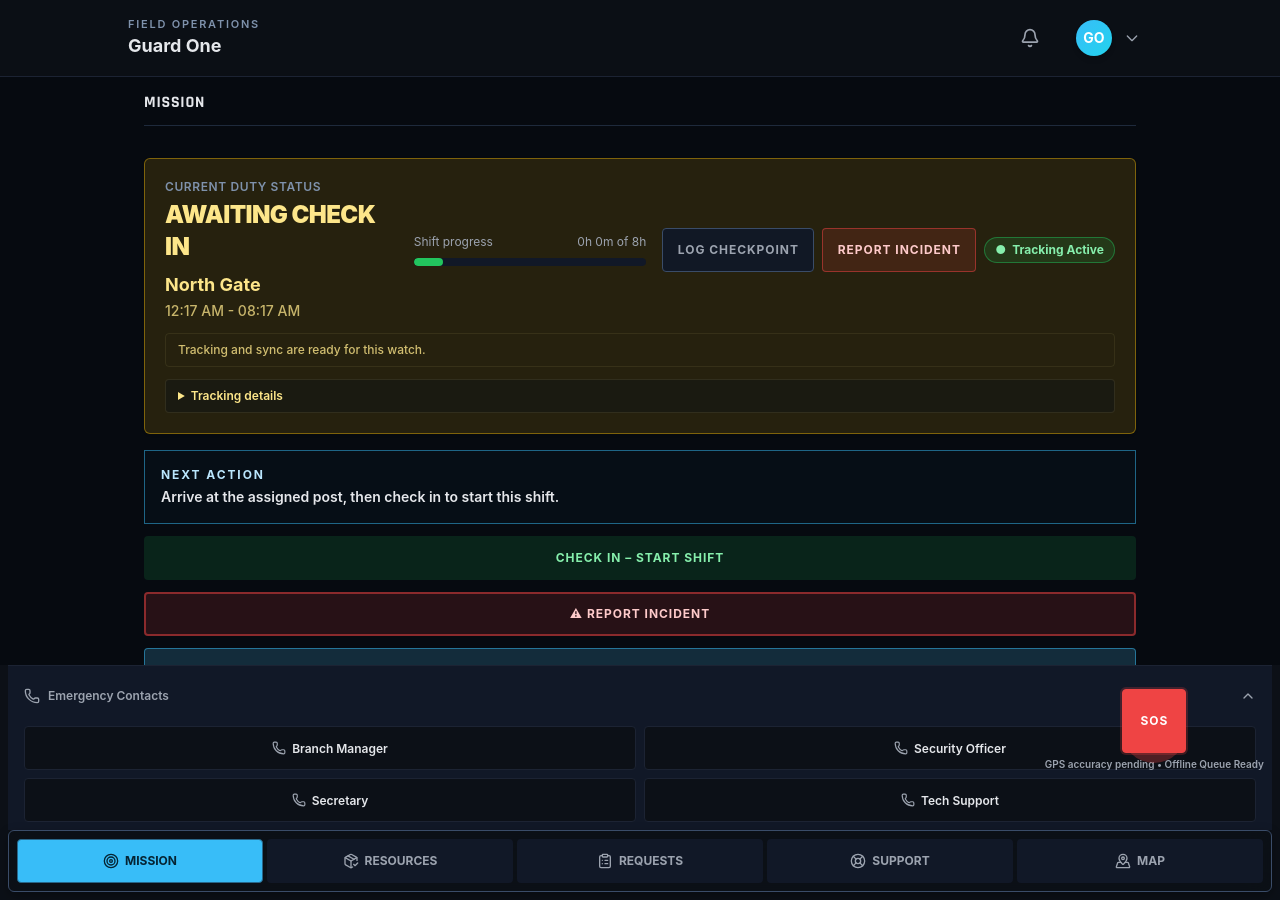
Test case: guard dashboard redesign tranche › saves profile changes from the inline profile modal
Step 1. Click the button with aria-label "open profile menu" → (1108, 38), box [1064,12,1152,64]
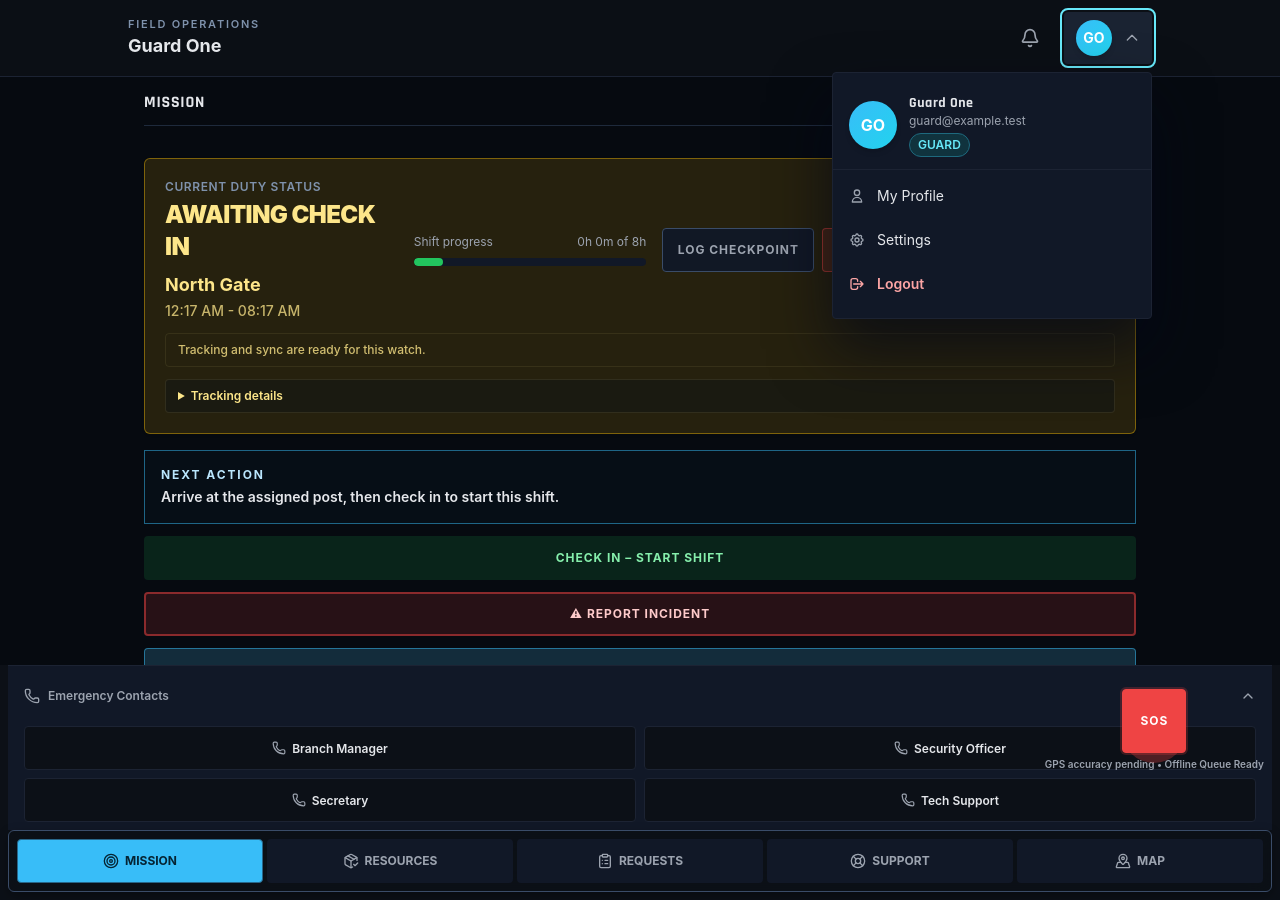
Step 2. Click the button "My Profile" → (911, 196), box [833,174,1151,218]
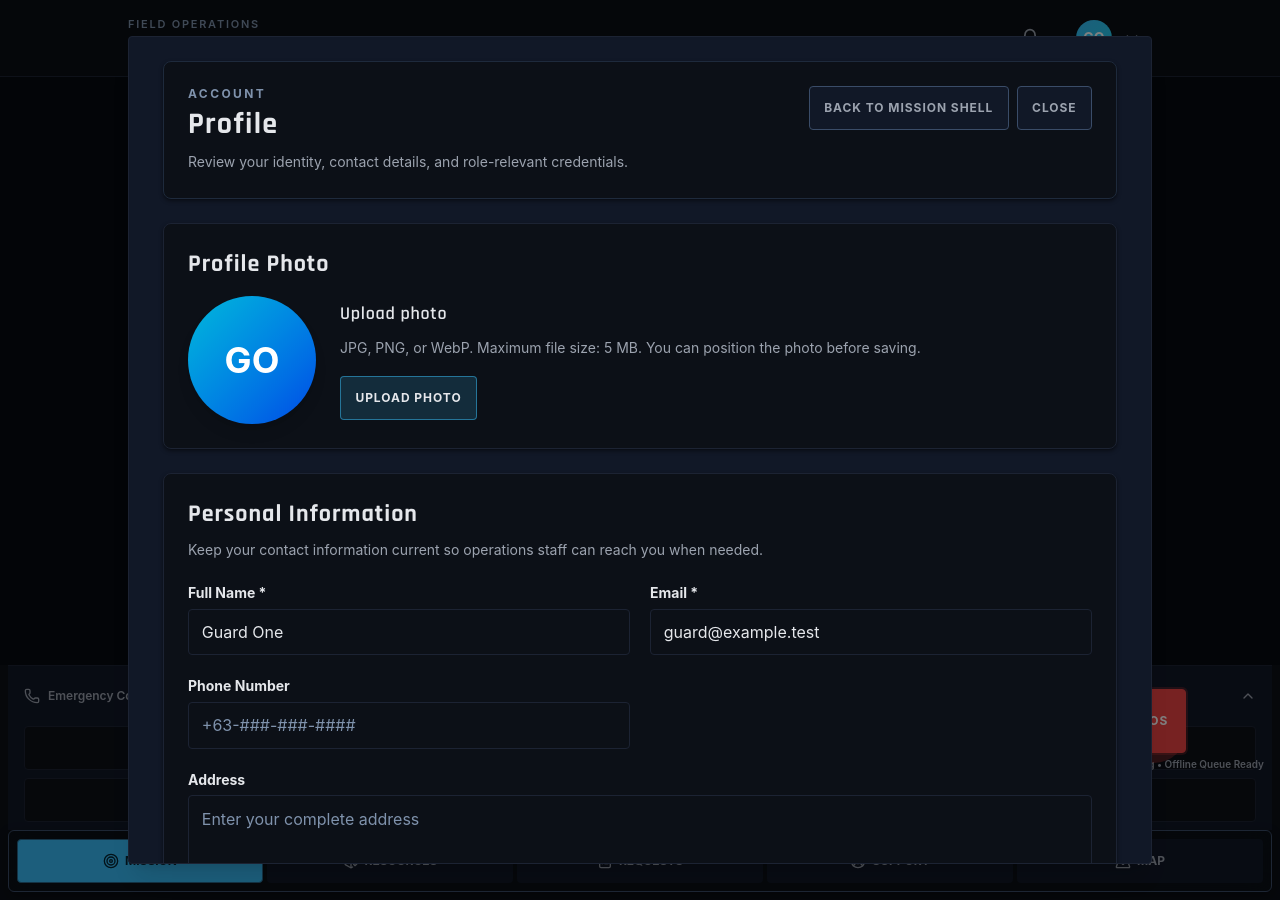
Step 3. Replace the text in the field labelled "Full Name *" with "Guard One Updated" → (409, 632), box [188,609,630,655]
(page scrolled)
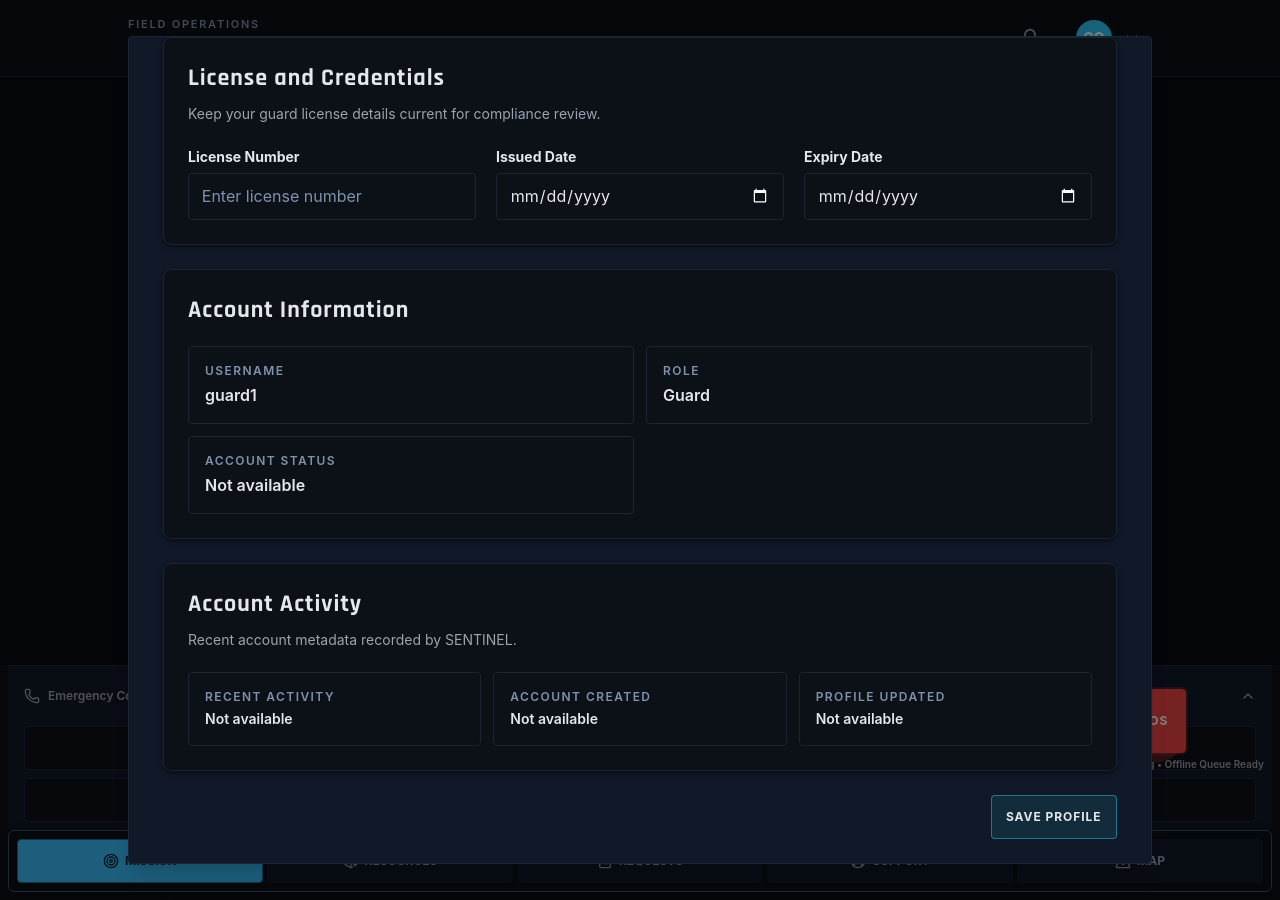
Step 4. Click the button "Save Profile" → (1054, 816), box [990,794,1117,838]
(page scrolled)
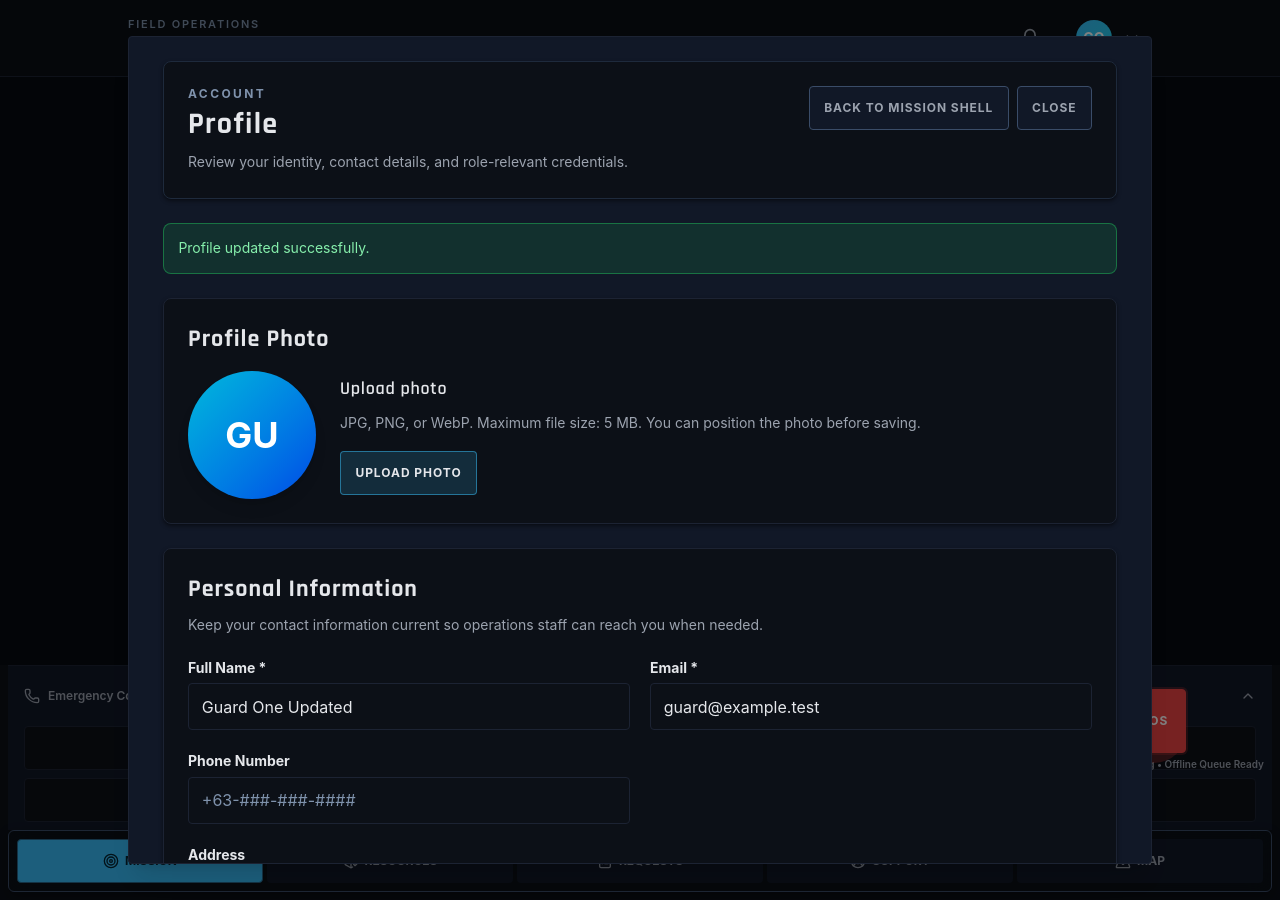
Expected: the text "Profile updated successfully." is shown, [163,223,1117,274]
